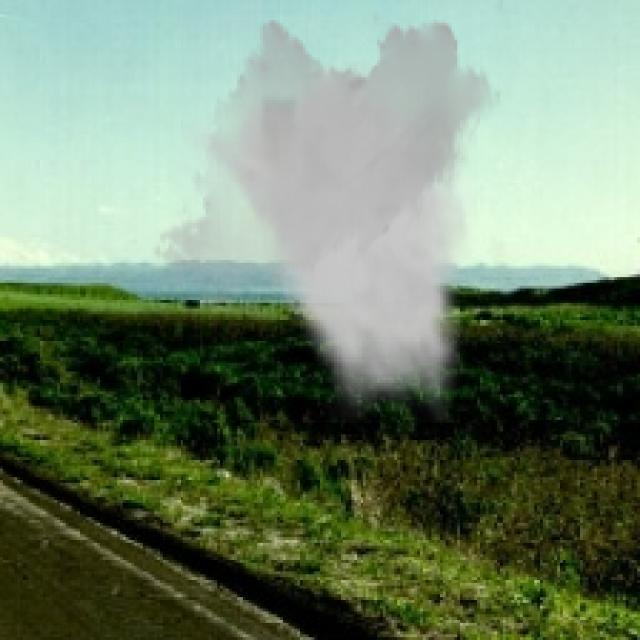Smoke: (151, 8, 503, 423)
